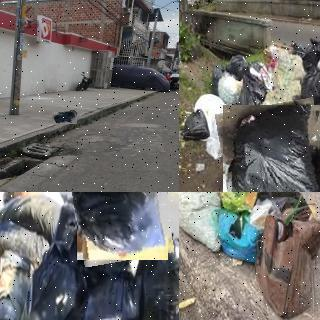Garbage: (219, 101, 320, 192), (73, 192, 171, 263), (259, 214, 320, 319), (11, 238, 84, 320), (53, 268, 148, 320), (179, 192, 221, 252), (214, 204, 257, 262), (192, 91, 237, 142), (299, 67, 320, 167), (234, 70, 269, 118), (182, 107, 212, 139), (220, 192, 256, 213), (53, 111, 77, 125)
